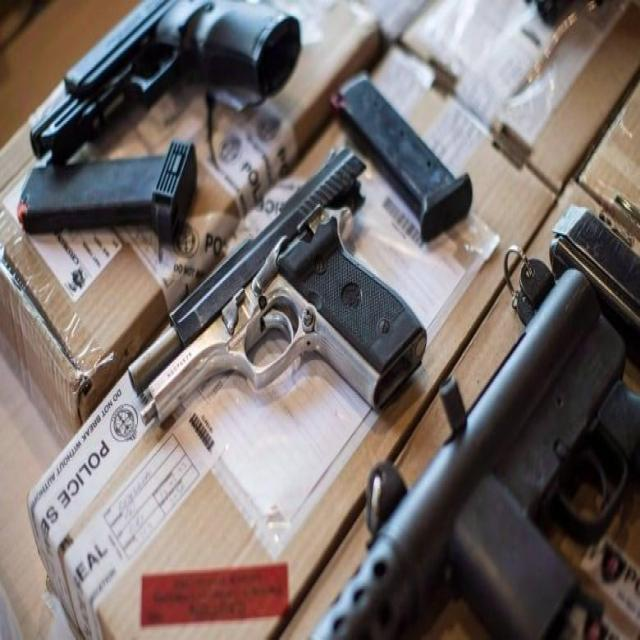weapon: (125, 136, 408, 500)
